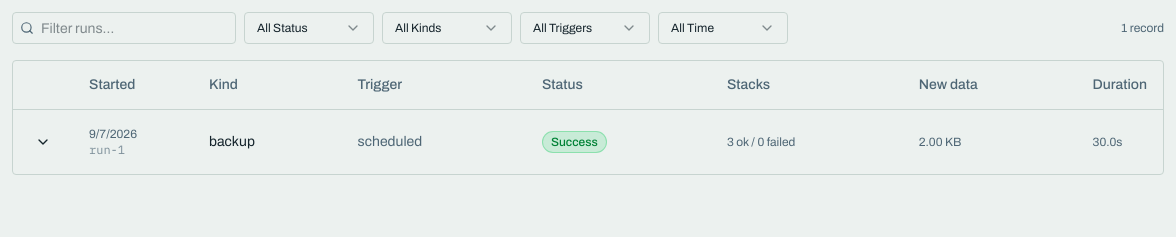
Scenario: BackupHistoryTab — expandable run rows › explains a run that recorded no per-stack items
Expected: the text "run-1" is shown, [89,142,125,156]
Step 1. Click the button named "Show details for run run-1" → (43, 142), box [29,128,57,156]
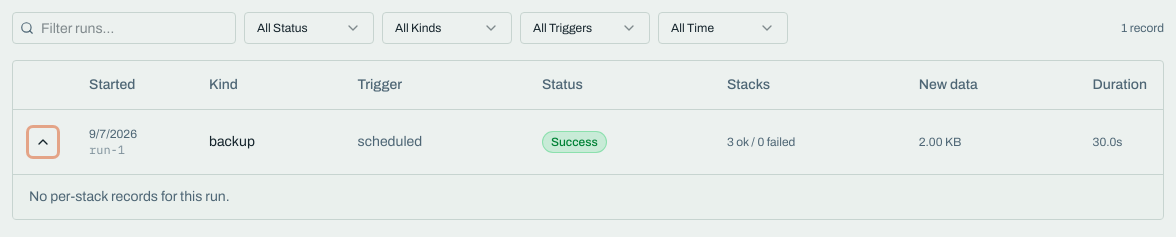
Expected: the text "No per-stack records for this run." is shown, [29,188,230,204]
